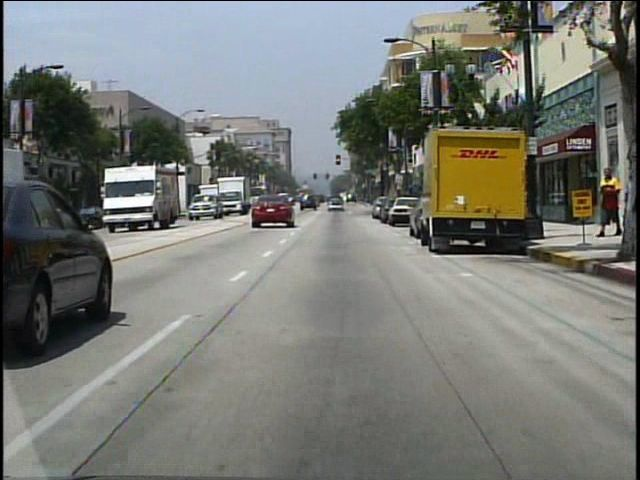person: (593, 165, 621, 239)
